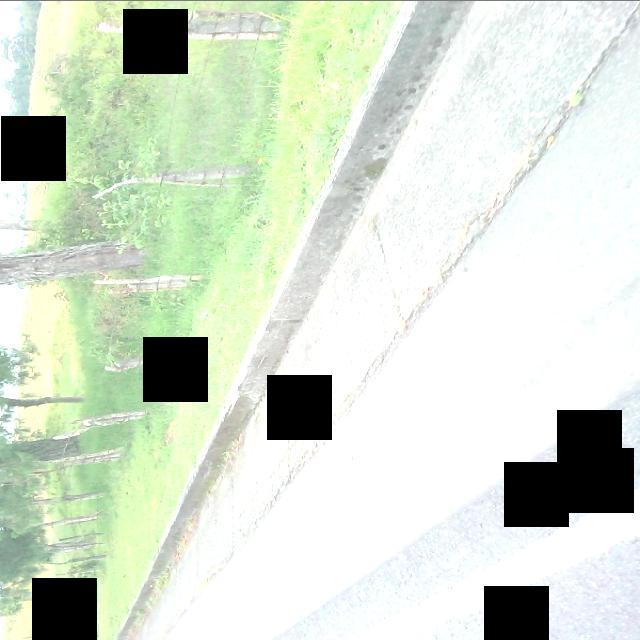DITCH: (68, 2, 638, 638), (117, 2, 638, 638), (147, 2, 638, 638)
